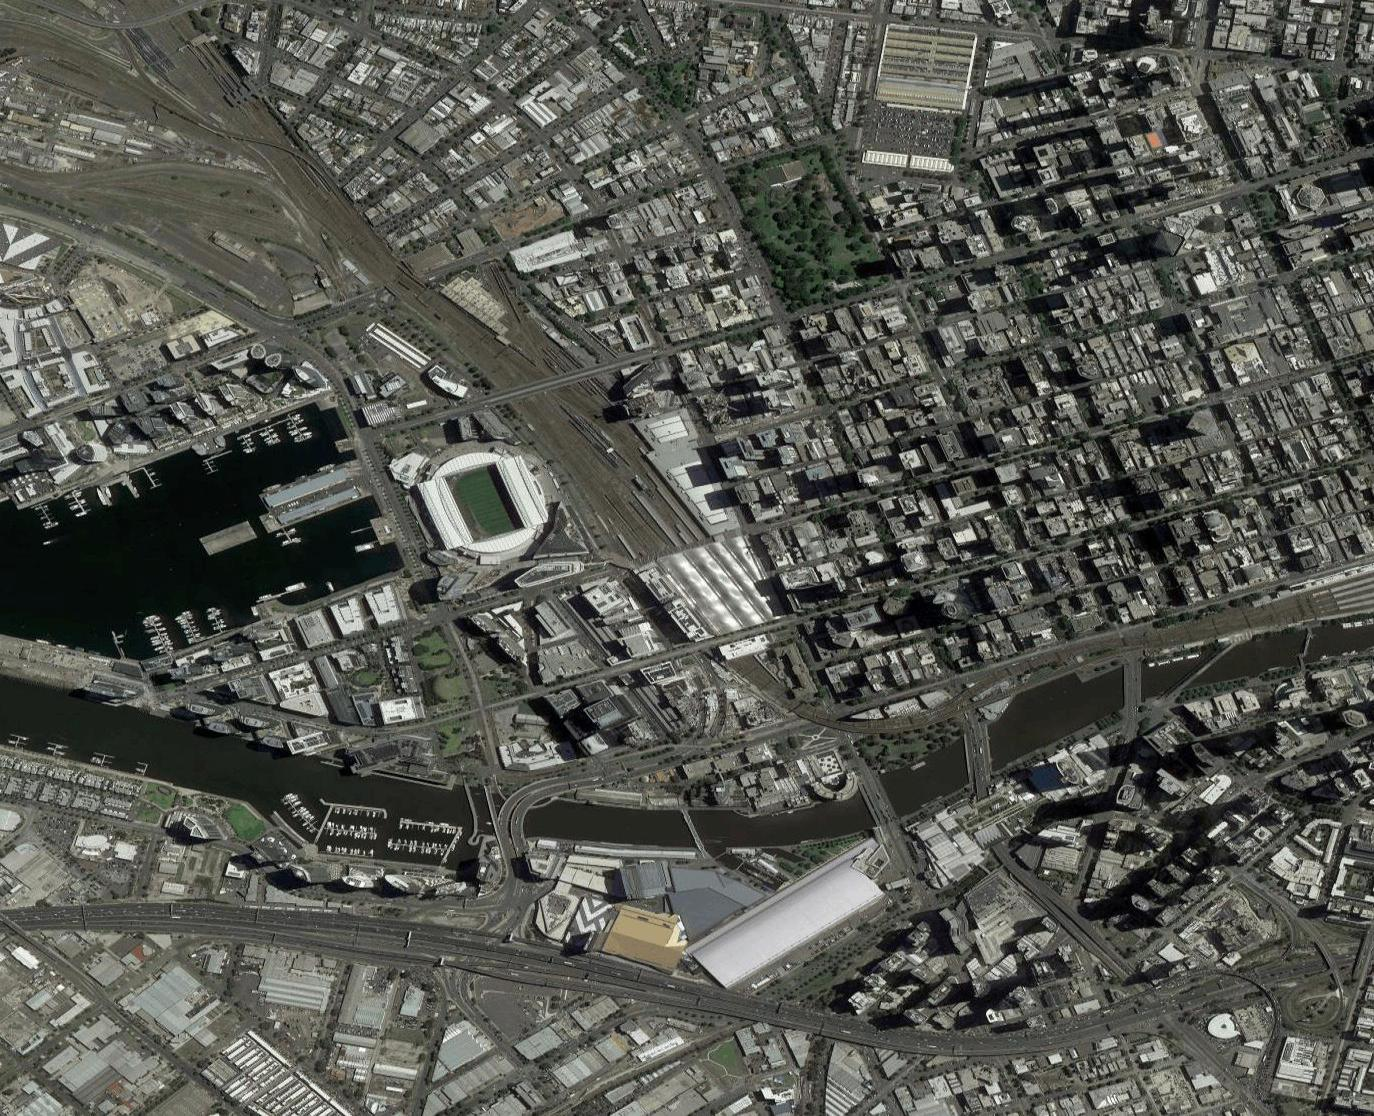bridge: (499, 361, 589, 400), (958, 724, 996, 783), (495, 789, 537, 834), (1116, 655, 1150, 705), (855, 781, 894, 822), (677, 811, 708, 845)
motorway: (334, 914, 497, 973), (494, 941, 658, 999), (657, 974, 821, 1032), (818, 1006, 984, 1062), (167, 896, 332, 947), (1126, 974, 1274, 1028), (986, 1010, 1134, 1064), (1, 896, 166, 937)
train_station: (595, 503, 798, 686)
